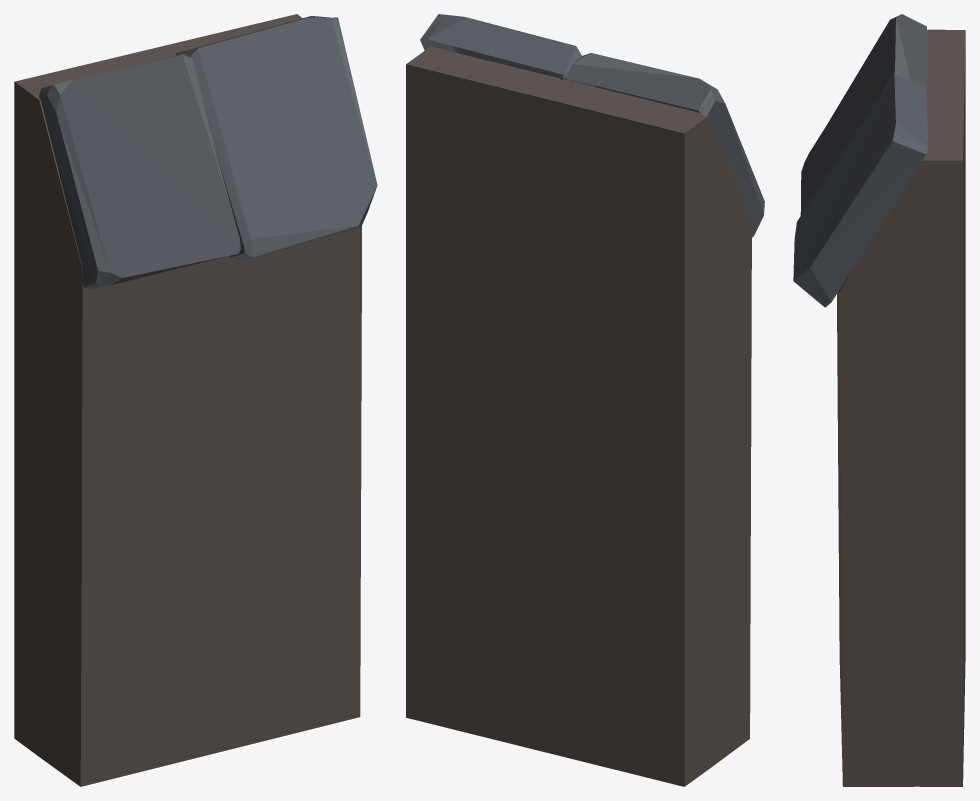
The model's file is MCastle_SquareWall_Base_02_Half.FBX.
3 renders of one model, left to right at view 1: azimuth 30°, elevation 25°; view 2: azimuth 150°, elevation 25°; view 3: azimuth 270°, elevation 25°, orthographic. The views are drawn at different scales.
Visible parts, largest first — view 1: MCastle_SquareWalls_Base_02_Half_LOD0; view 2: MCastle_SquareWalls_Base_02_Half_LOD0; view 3: MCastle_SquareWalls_Base_02_Half_LOD0.
Part boxes in pixels (x1,y1,x2,y2): MCastle_SquareWalls_Base_02_Half_LOD0: (14,14,377,786); MCastle_SquareWalls_Base_02_Half_LOD0: (406,14,764,786); MCastle_SquareWalls_Base_02_Half_LOD0: (793,14,965,786).
Size of what is drawn, in the model's own units: 2.04 by 4.65 by 1.11.
